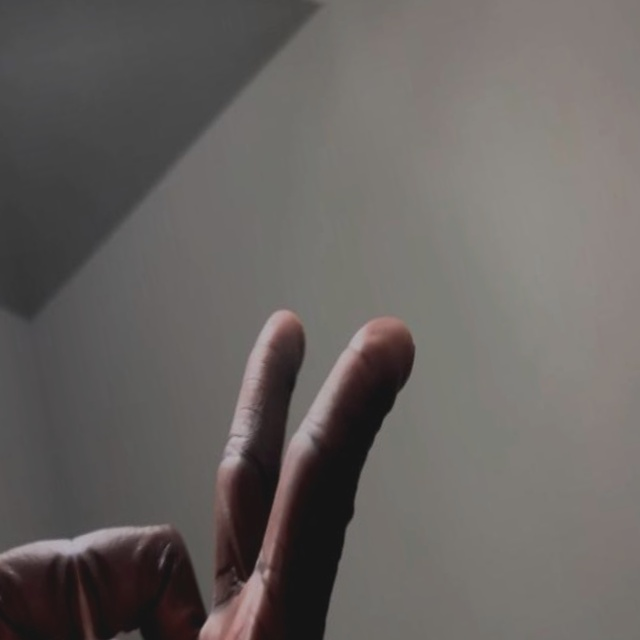Scissors: (36, 286, 503, 640)
